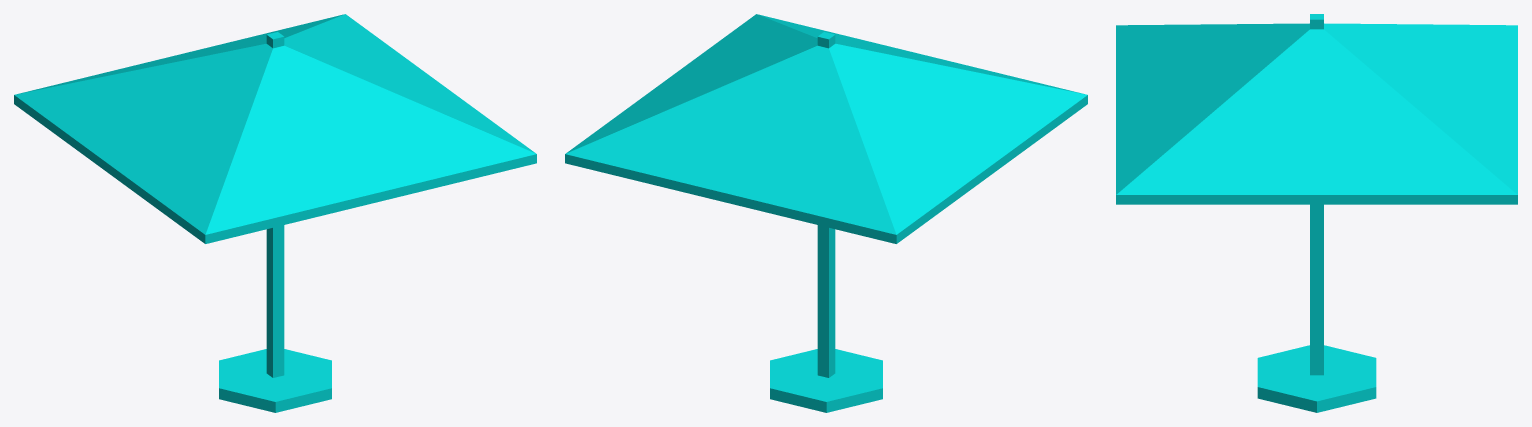
File: SM_Prop_Umbrella_03_Collision.fbx
The picture shows the model from 3 angles, left to right: view 1: azimuth 30°, elevation 25°; view 2: azimuth 150°, elevation 25°; view 3: azimuth 270°, elevation 25°; orthographic projection. The views are drawn at different scales.
Visible parts, largest first — view 1: SM_Prop_Umbrella_03_Collision; view 2: SM_Prop_Umbrella_03_Collision; view 3: SM_Prop_Umbrella_03_Collision.
Boxes of the visible parts, box(x1,y1,x2,y2) form: SM_Prop_Umbrella_03_Collision: box(14, 14, 536, 412); SM_Prop_Umbrella_03_Collision: box(565, 14, 1087, 412); SM_Prop_Umbrella_03_Collision: box(1116, 14, 1517, 412).
Size of the model in its own units: 327 by 330 by 327.
